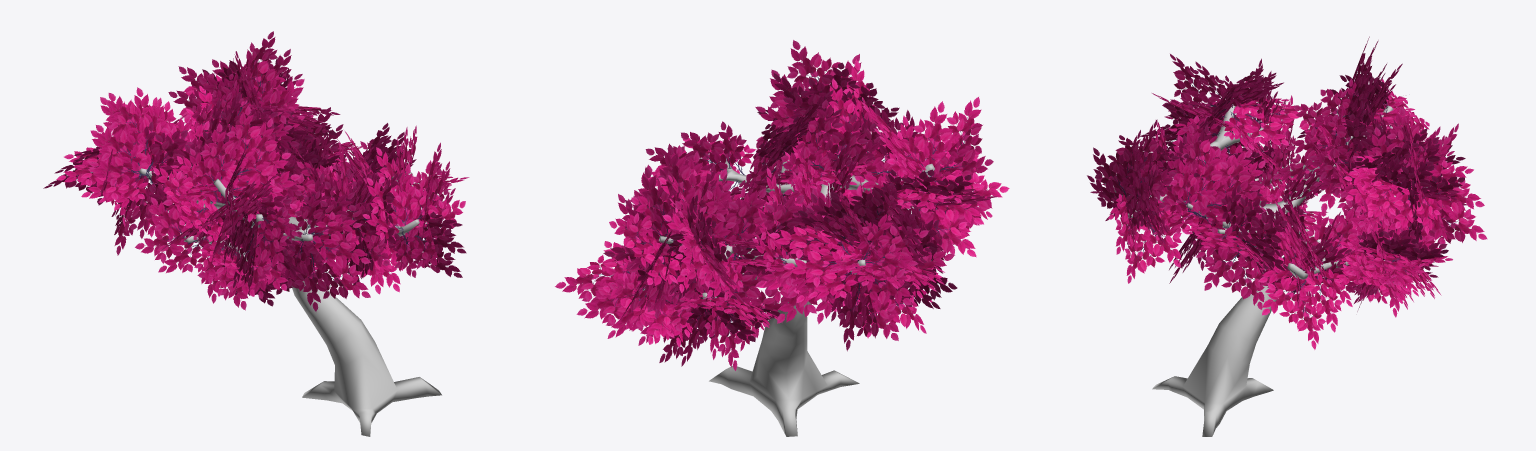
Rendered from PinkTree4 (2).fbx.
The picture shows the model from 3 angles, left to right: view 1: azimuth 30°, elevation 25°; view 2: azimuth 150°, elevation 25°; view 3: azimuth 270°, elevation 25°; orthographic projection. The views are drawn at different scales.
Visible parts, largest first — view 1: Tree4|PinkLeaves_1|Dupli|80, Tree4; view 2: Tree4|PinkLeaves_1|Dupli|80, Tree4; view 3: Tree4|PinkLeaves_1|Dupli|80, Tree4.
Boxes of the visible parts, bbox=[...] form: Tree4|PinkLeaves_1|Dupli|80: bbox=[43, 31, 469, 311]; Tree4: bbox=[139, 166, 441, 436]; Tree4|PinkLeaves_1|Dupli|80: bbox=[555, 40, 1009, 370]; Tree4: bbox=[643, 123, 934, 436]; Tree4|PinkLeaves_1|Dupli|80: bbox=[1087, 36, 1487, 349]; Tree4: bbox=[1103, 98, 1430, 436].
Size of the model in its own units: 1955 by 1601 by 2125.
